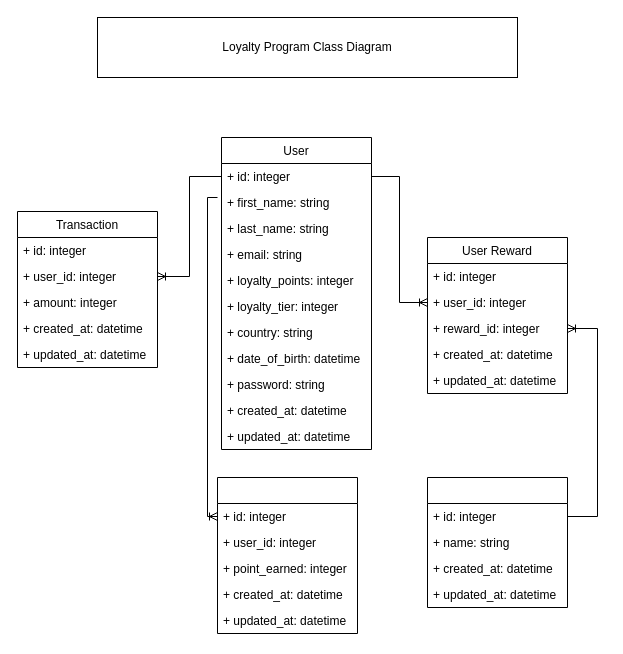
The diagram is 623 pixels wide and 654 high, and some of its shapes have lost their labels. The shapes that lost their labels are listed below. From the top down, each one's box as (x1, y1, x2, y2) in pixels, then its label:
(216, 476, 358, 634): User Point
(426, 476, 568, 608): Reward
